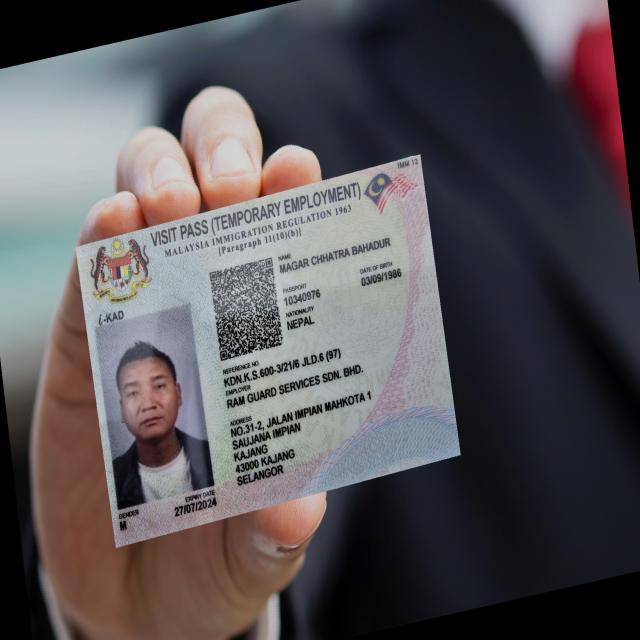ikad-temp: (74, 152, 462, 548)
